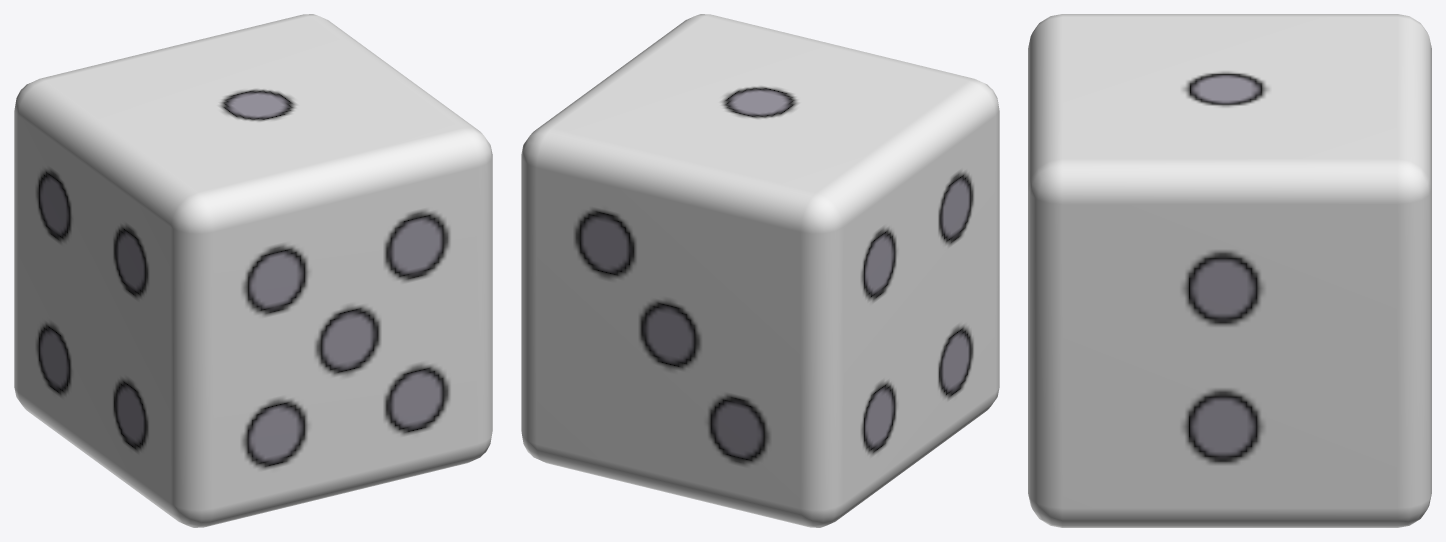
Rendered from Dice.fbx.
The picture shows the model from 3 angles, left to right: view 1: azimuth 30°, elevation 25°; view 2: azimuth 150°, elevation 25°; view 3: azimuth 270°, elevation 25°; orthographic projection. The views are drawn at different scales.
Parts seen in each view (by area): view 1: Dice_1; view 2: Dice_1; view 3: Dice_1.
Part boxes in pixels (<box>): Dice_1: <box>14,14,492,527</box>; Dice_1: <box>521,14,999,527</box>; Dice_1: <box>1028,14,1431,527</box>.
Size of the model in its own units: 214 by 214 by 214.
Materials: 1 (1 with a texture image).
